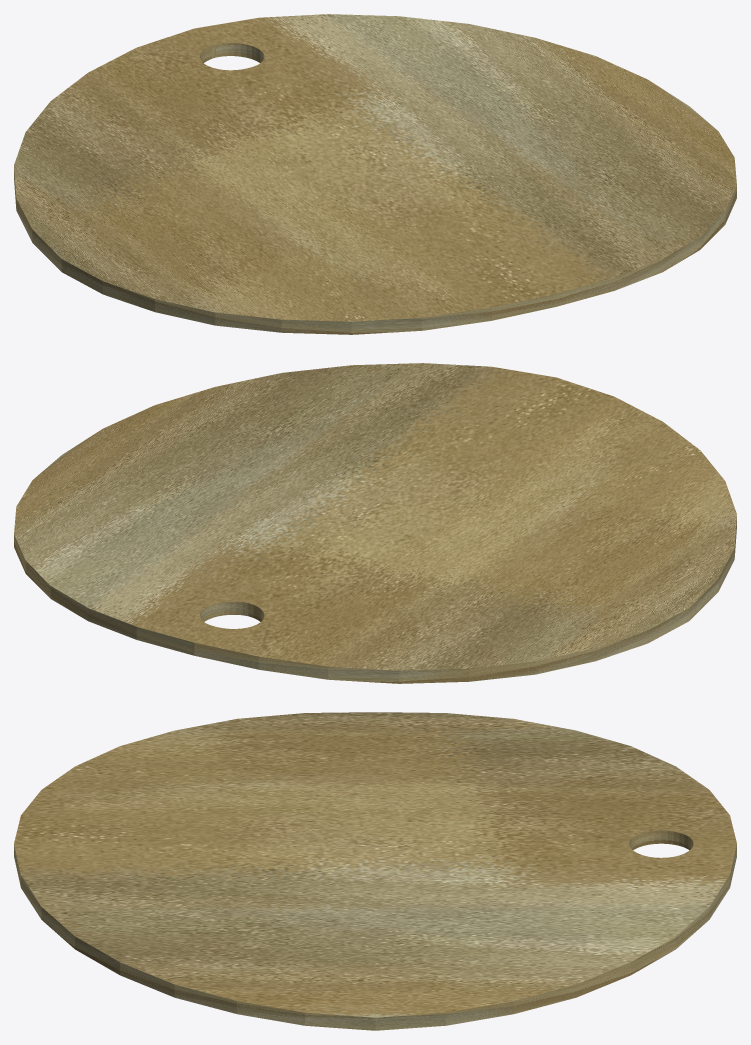
The model's file is Big_Chit.fbx.
3 renders of one model, top to bottom at view 1: azimuth 30°, elevation 25°; view 2: azimuth 150°, elevation 25°; view 3: azimuth 270°, elevation 25°, orthographic.
Visible parts, largest first — view 1: Big_Chit; view 2: Big_Chit; view 3: Big_Chit.
Part boxes in pixels (x1,y1,x2,y2): Big_Chit: (14,14,736,334); Big_Chit: (14,363,736,683); Big_Chit: (14,712,736,1030).
Bounding box in the file's own units: 50 × 2.64 × 50.
